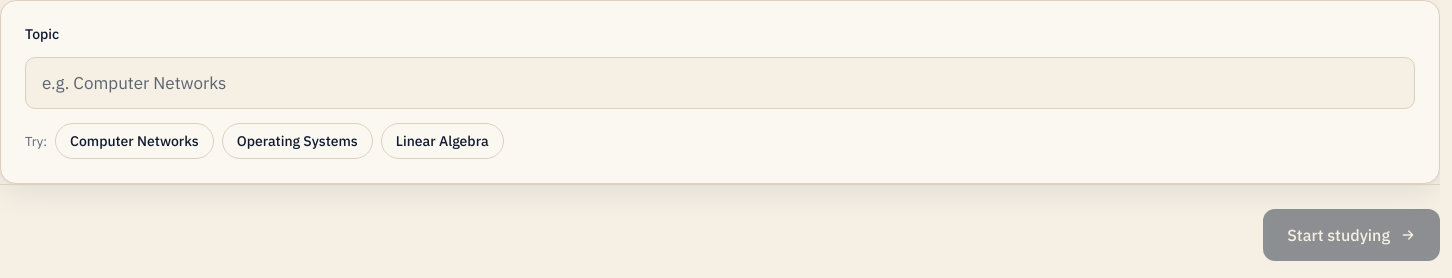
it: TopicForm › disables Start studying until a topic is typed
Expected: the button "Start studying" is disabled, [1263, 209, 1440, 261]
Type "Operating Systems" into the field labelled "Topic" at point(720, 83), box [25, 57, 1415, 109]
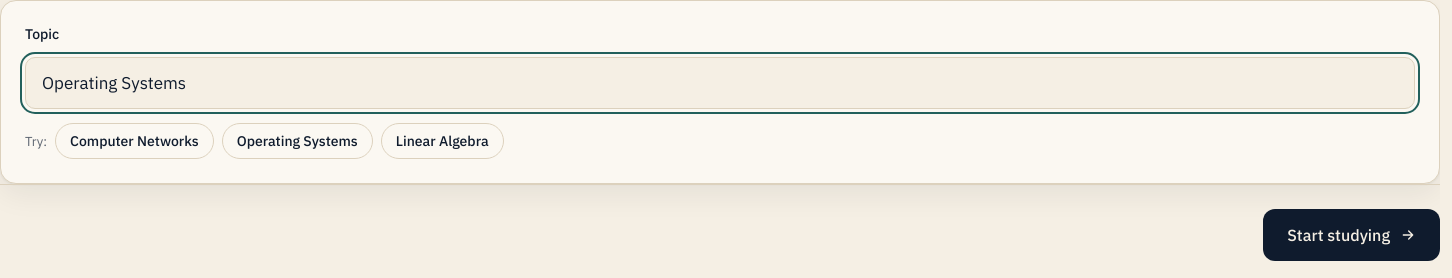
Expected: the button "Start studying" is enabled, [1263, 209, 1440, 261]
